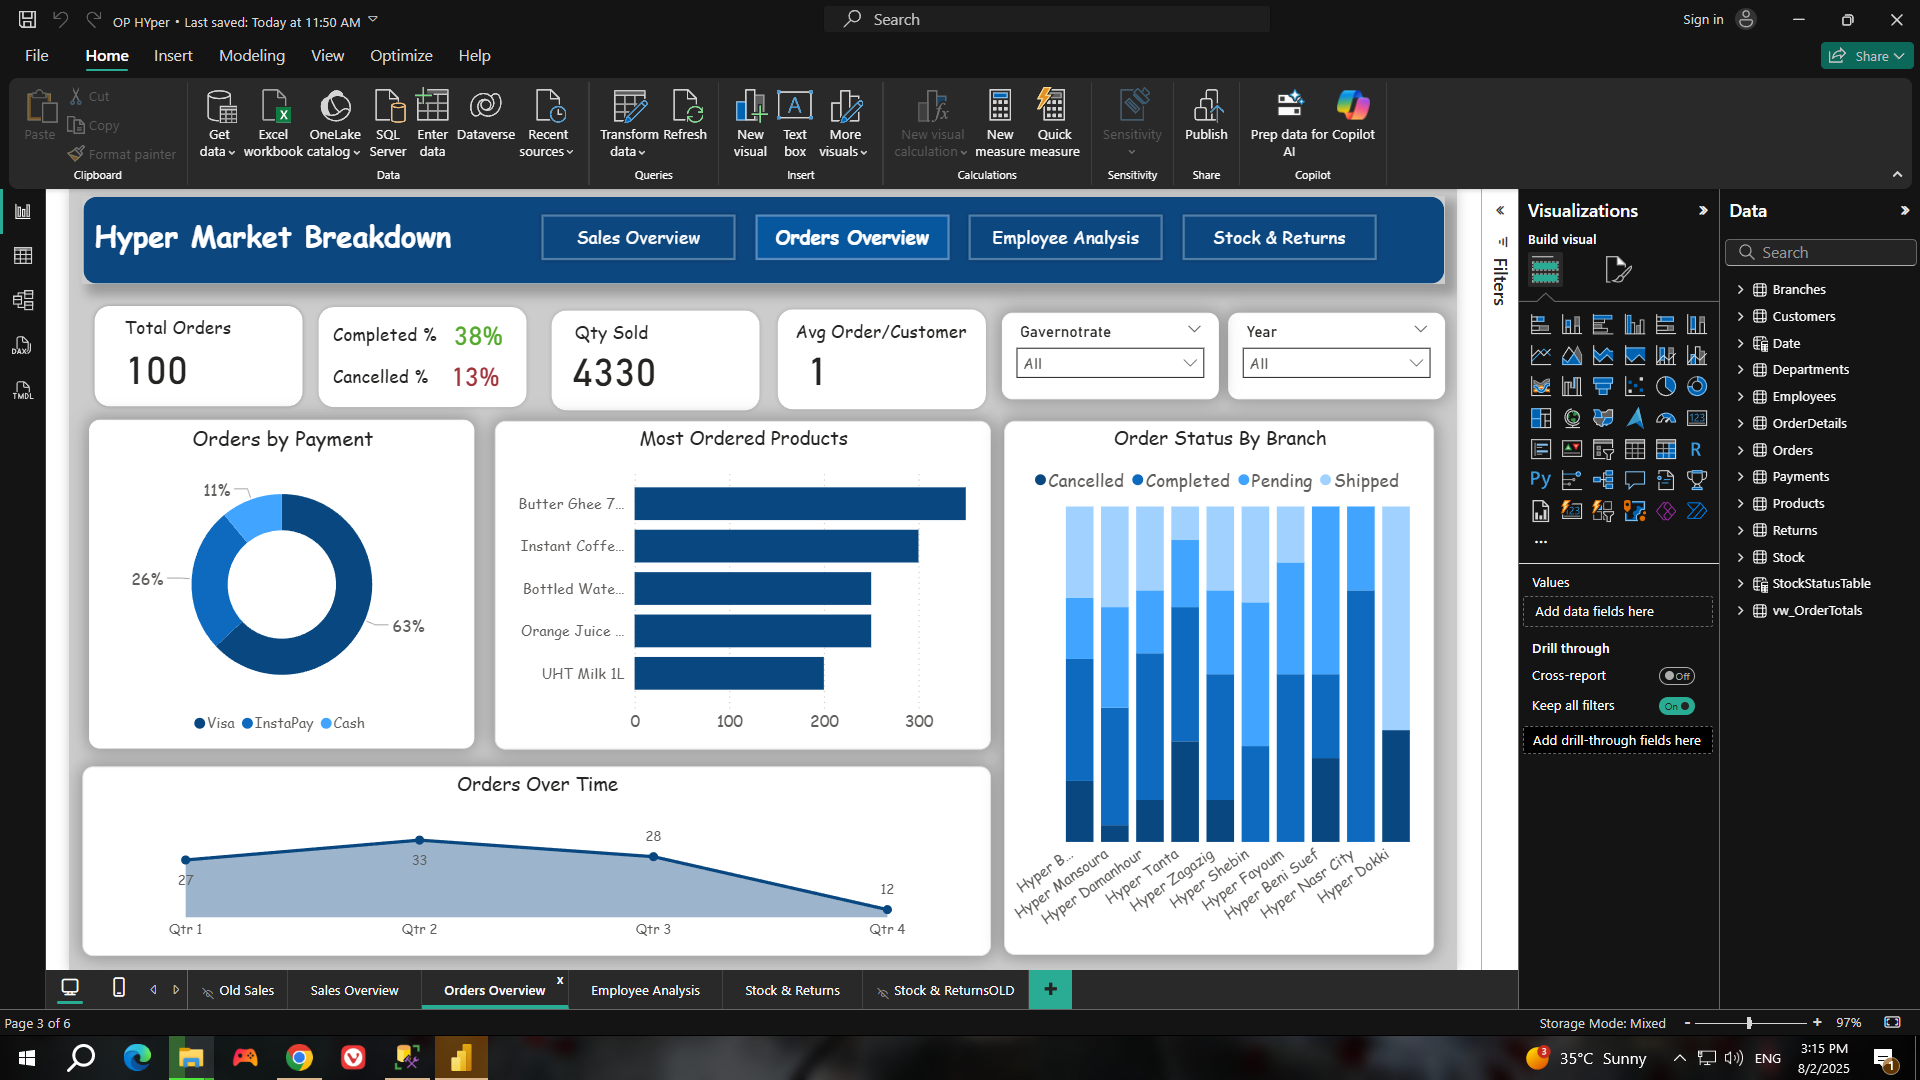

Layout of this report page (visuals, bound fields, positions):
{"tool":"powerbi","page":{"name":"Orders Overview","canvas":[1280,720],"ordinal":2},"visuals":[{"type":"shape","box":[12.7,5.8,1256.8,82.1],"z":0},{"type":"shape","box":[19.5,103.8,200,100.7],"z":0,"group":"g1"},{"type":"shape","box":[226.1,104.8,200,100.3],"z":0,"group":"g4"},{"type":"shape","box":[649.6,106.9,200,100.3],"z":0,"group":"g5"},{"type":"shape","box":[440.9,107.9,200,100.3],"z":0,"group":"g2"},{"type":"textbox","box":[18.5,18.5,356.7,95.6],"z":1000},{"type":"card","title":"Total Sales ","fields":{"Values":["Orders.Com_perc"]},"box":[330.9,109.4,92.7,49.1],"z":1000,"group":"g4"},{"type":"card","title":"Total Sales ","fields":{"Values":["Count(OrderDetails.Order_ID)"]},"box":[37,139.7,86.4,46.9],"z":1000,"group":"g1"},{"type":"card","title":"Total Sales ","fields":{"Values":["Orders.Avg_Orders_Per_Customer"]},"box":[643.4,139.8,92.5,48.3],"z":1000,"group":"g5"},{"type":"card","title":"Total Sales ","fields":{"Values":["Sum(OrderDetails.Quantity)"]},"box":[456.3,140.8,92.5,48.3],"z":1000,"group":"g2"},{"type":"pageNavigator","box":[432,19.6,781.6,50.9],"z":2000,"group":"g3"},{"type":"textbox","box":[45.8,109.5,133.6,40.1],"z":2000,"group":"g1"},{"type":"textbox","box":[664.5,114.2,188.1,32.9],"z":2000,"group":"g5"},{"type":"textbox","box":[461.8,114.6,132.6,32.9],"z":2000,"group":"g2"},{"type":"textbox","box":[238.9,117.6,133.6,32.7],"z":2000,"group":"g4"},{"type":"group","id":"g1","title":"Group 1","box":[19.5,103.8,200,100.7],"z":3000},{"type":"group","id":"g2","title":"Group 1","box":[440.9,107.9,200.4,100.7],"z":4000},{"type":"barChart","title":"Most Ordered Products","fields":{"Category":["Products.Pro_Name"],"Y":["Sum(OrderDetails.Quantity)"]},"box":[392.6,213.8,457.4,303.2],"z":5000},{"type":"lineChart","title":"Orders Over Time","fields":{"Category":["Date.Date.Variation.Date Hierarchy.Year","Date.Date.Variation.Date Hierarchy.Quarter","Date.Date.Variation.Date Hierarchy.Month"],"Y":["CountNonNull(Orders.Order_ID)"]},"box":[12.3,532.4,837.7,174.7],"z":6000},{"type":"slicer","fields":{"Values":["Date.Year"]},"box":[1068.6,114,200.4,80.2],"z":7000},{"type":"slicer","fields":{"Values":["Branches.Branch_Location"]},"box":[860,114,200.4,80.2],"z":8000},{"type":"group","id":"g3","title":"Group 3","box":[432,19.6,781.6,50.9],"z":9000},{"type":"donutChart","title":"Orders by Payment ","fields":{"Category":["Payments.Payment_Method"],"Y":["CountNonNull(Payments.Order_ID)"]},"box":[18.5,212.8,355.6,303.2],"z":10000},{"type":"group","id":"g4","title":"Group 1","box":[226.1,104.8,200,100.3],"z":11000,"group":"g6"},{"type":"hundredPercentStackedColumnChart","title":"Order Status By Branch","fields":{"Y":["CountNonNull(Orders.Order_ID)"],"Series":["Orders.Order_Status"],"Category":["Branches.Branch_Name"]},"box":[862.6,213.9,396.6,492.6],"z":12000},{"type":"group","id":"g5","title":"Group 1","box":[643.4,106.9,209.2,100.3],"z":13000},{"type":"textbox","box":[238.4,155.2,133.6,32.7],"z":14000,"group":"g6"},{"type":"card","title":"Total Sales ","fields":{"Values":["Orders.Con_perc"]},"box":[328.3,147.1,92.7,49.1],"z":14500,"group":"g6"},{"type":"group","id":"g6","title":"Group 2","box":[226.1,104.8,200.4,99.7],"z":14501}]}

Visuals, with their boxes on the page's 1280x720 design canvas (x1, y1, x2, y2). These are canvas units, not pixel positions in the 1920x1080 screenshot, which may show the page scaled, cropped or inside an application window:
shape: box=[13, 6, 1270, 88]
shape: box=[20, 104, 220, 204]
shape: box=[226, 105, 426, 205]
shape: box=[650, 107, 850, 207]
shape: box=[441, 108, 641, 208]
textbox: box=[18, 18, 375, 114]
"Total Sales " card: box=[331, 109, 424, 158]
"Total Sales " card: box=[37, 140, 123, 187]
"Total Sales " card: box=[643, 140, 736, 188]
"Total Sales " card: box=[456, 141, 549, 189]
pageNavigator: box=[432, 20, 1214, 70]
textbox: box=[46, 110, 179, 150]
textbox: box=[664, 114, 853, 147]
textbox: box=[462, 115, 594, 148]
textbox: box=[239, 118, 372, 150]
"Group 1" group: box=[20, 104, 220, 204]
"Group 1" group: box=[441, 108, 641, 209]
"Most Ordered Products" barChart: box=[393, 214, 850, 517]
"Orders Over Time" lineChart: box=[12, 532, 850, 707]
slicer - Date.Year: box=[1069, 114, 1269, 194]
slicer - Branches.Branch_Location: box=[860, 114, 1060, 194]
"Group 3" group: box=[432, 20, 1214, 70]
"Orders by Payment " donutChart: box=[18, 213, 374, 516]
"Group 1" group: box=[226, 105, 426, 205]
"Order Status By Branch" hundredPercentStackedColumnChart: box=[863, 214, 1259, 706]
"Group 1" group: box=[643, 107, 853, 207]
textbox: box=[238, 155, 372, 188]
"Total Sales " card: box=[328, 147, 421, 196]
"Group 2" group: box=[226, 105, 426, 204]
